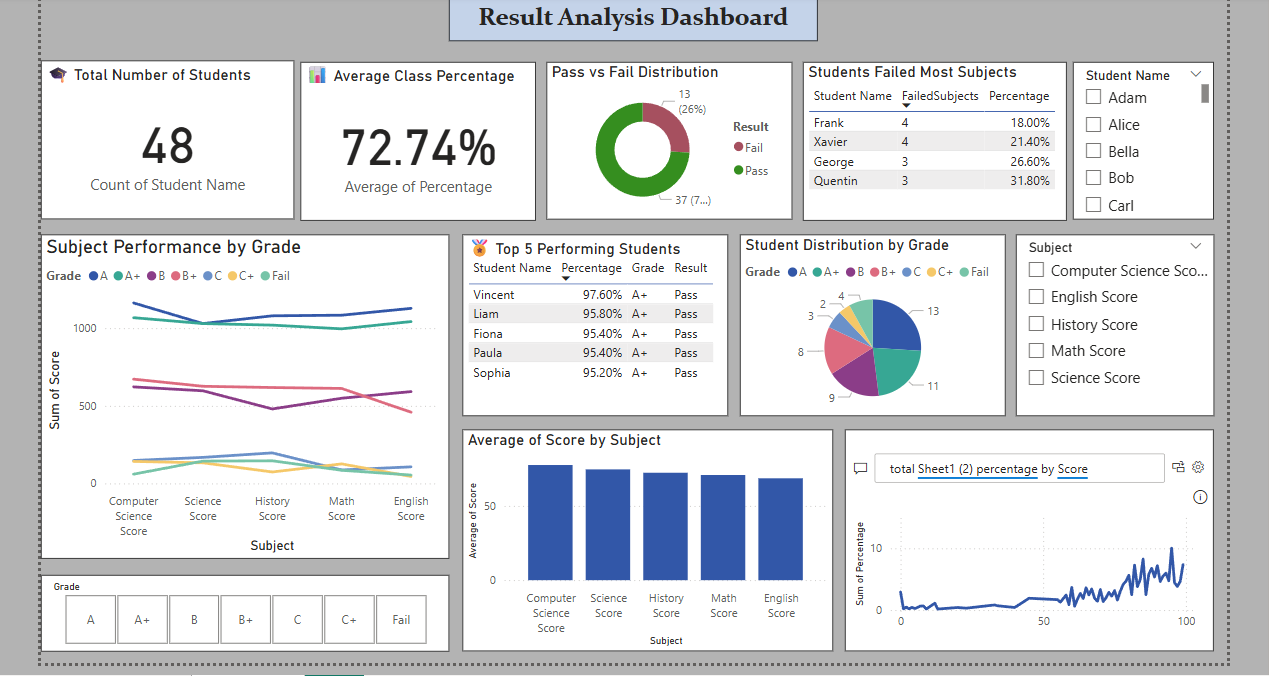

Layout of this report page (visuals, bound fields, positions):
{"tool":"powerbi","page":{"name":"Page 1","canvas":[1280,720],"ordinal":0},"visuals":[{"type":"textbox","box":[440.4,0,398.3,48.6],"z":0},{"type":"card","title":"🎓 Total Number of Students","fields":{"Values":["Count(Sheet1.Student Name)"]},"box":[0,69.6,273.6,171.6],"z":1000},{"type":"card","title":"📊 Average Class Percentage","fields":{"Values":["Avg(Sheet1.Percentage)"]},"box":[280.1,71.2,254.2,171.6],"z":2000},{"type":"pieChart","title":"Student Distribution by Grade","fields":{"Category":["Sheet1.Grade"],"Y":["Count(Sheet1.Student ID)"]},"box":[754.6,257.5,286.6,195.9],"z":3000},{"type":"donutChart","title":"Pass vs  Fail Distribution","fields":{"Series":["Sheet1.Result"],"Y":["CountNonNull(Sheet1.Student ID)"]},"box":[545.7,71.2,265.6,170],"z":4000},{"type":"tableEx","title":"🏅 Top 5 Performing Students","fields":{"Values":["Sheet1.Student Name","Sheet1.Percentage","Sheet1.Grade","Sheet1.Result"]},"box":[455,257.5,286.6,195.9],"z":5000},{"type":"tableEx","title":"Students Failed Most Subjects","fields":{"Values":["Sheet1.Student Name","Sheet1.FailedSubjects","Sheet1.Percentage"]},"box":[822.6,71.2,285,171.6],"z":6000},{"type":"lineChart","title":"Subject Performance by Grade","fields":{"Category":["Sheet1 (2).Subject"],"Y":["Sum(Sheet1 (2).Value)"],"Series":["Sheet1 (2).Grade"]},"box":[0,257.5,440.4,349.8],"z":7000},{"type":"columnChart","fields":{"Category":["Sheet1 (2).Subject"],"Y":["Avg(Sheet1 (2).Value)"]},"box":[455,468,399.9,239.6],"z":8000},{"type":"slicer","fields":{"Values":["Sheet1 (2).Student Name"]},"box":[1114,71.2,152.2,170],"z":9000},{"type":"slicer","fields":{"Values":["Sheet1 (2).Grade"]},"box":[0,625,440.4,82.6],"z":10000},{"type":"qnaVisual","box":[867.9,468,398.3,239.6],"z":11000},{"type":"slicer","fields":{"Values":["Sheet1 (2).Subject"]},"box":[1052.5,257.5,213.7,195.9],"z":12000}]}

Visuals, with their boxes in screenshot pixels (x1, y1, x2, y2):
textbox: [left=445, top=0, right=815, bottom=38]
"🎓 Total Number of Students" card: [left=36, top=58, right=290, bottom=217]
"📊 Average Class Percentage" card: [left=296, top=59, right=532, bottom=219]
"Student Distribution by Grade" pieChart: [left=737, top=232, right=1002, bottom=414]
"Pass vs  Fail Distribution" donutChart: [left=543, top=59, right=789, bottom=217]
"🏅 Top 5 Performing Students" tableEx: [left=459, top=232, right=724, bottom=414]
"Students Failed Most Subjects" tableEx: [left=800, top=59, right=1064, bottom=219]
"Subject Performance by Grade" lineChart: [left=36, top=232, right=445, bottom=557]
columnChart - Sheet1 (2).Subject x Avg(Sheet1 (2).Value): [left=459, top=428, right=830, bottom=650]
slicer - Sheet1 (2).Student Name: [left=1070, top=59, right=1211, bottom=217]
slicer - Sheet1 (2).Grade: [left=36, top=573, right=445, bottom=650]
qnaVisual: [left=842, top=428, right=1211, bottom=650]
slicer - Sheet1 (2).Subject: [left=1013, top=232, right=1211, bottom=414]
